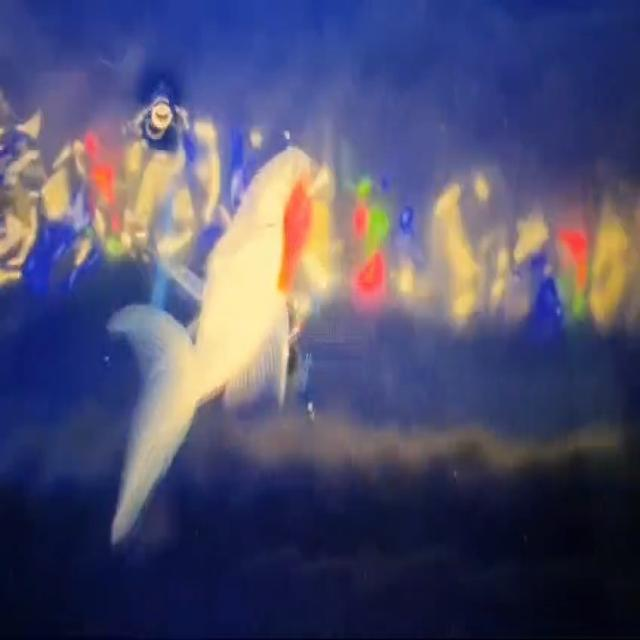fish: (106, 120, 322, 542)
